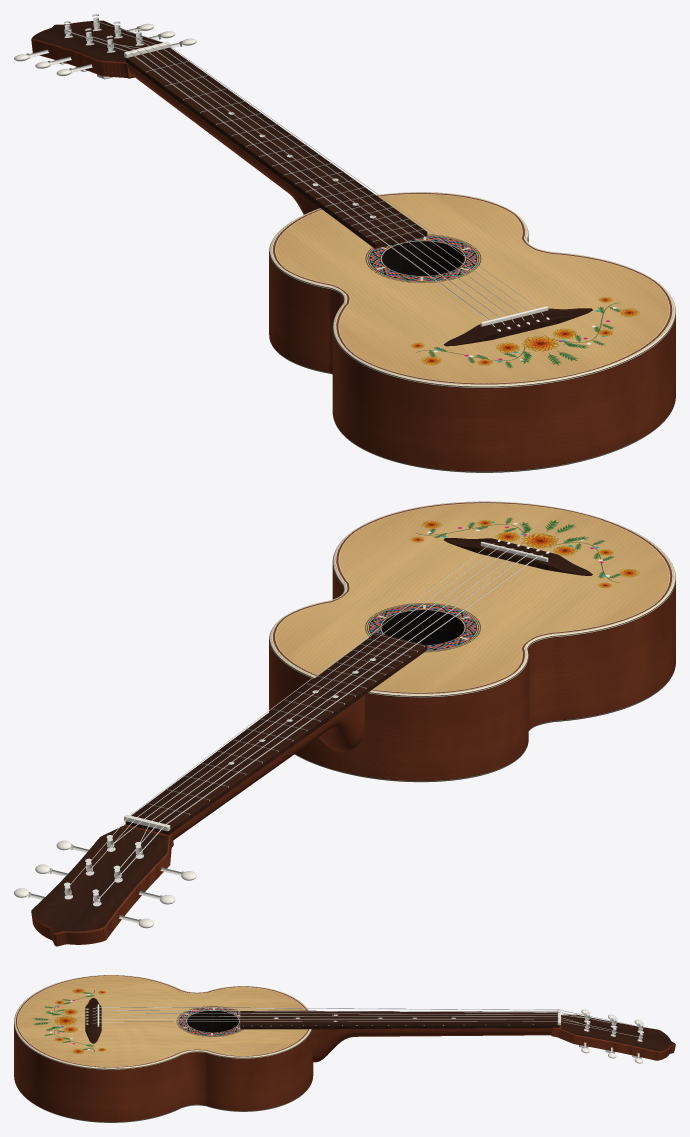
The model's file is guitar.glb.
The picture shows the model from 3 angles, top to bottom: view 1: azimuth 30°, elevation 25°; view 2: azimuth 150°, elevation 25°; view 3: azimuth 270°, elevation 25°; orthographic projection. The views are drawn at different scales.
Parts seen in each view (by area): view 1: guitar; view 2: guitar; view 3: guitar.
Part boxes in pixels (<box>): guitar: <box>14,14,675,472</box>; guitar: <box>14,501,675,946</box>; guitar: <box>14,975,675,1122</box>.
Bounding box in the file's own units: 0.366 × 0.1131 × 1.09.
5 materials, 3 textured.
